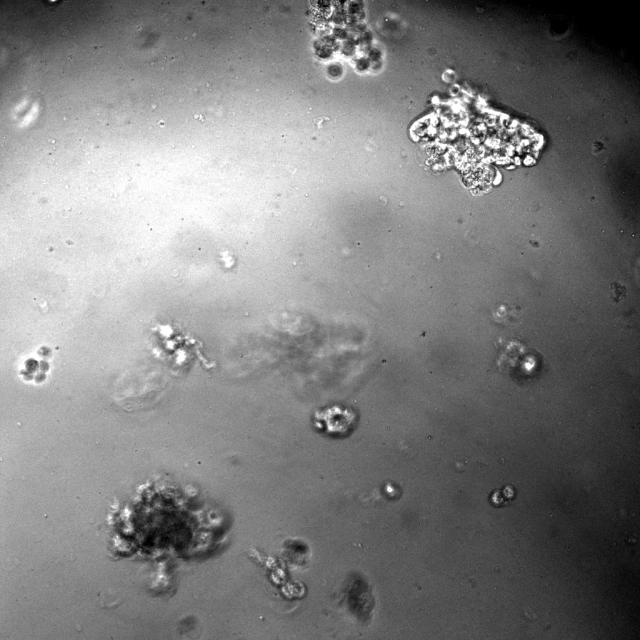organoid: (408, 69, 546, 196), (108, 477, 230, 593), (307, 0, 383, 79), (251, 537, 311, 599), (151, 324, 213, 372), (332, 571, 376, 623), (497, 338, 543, 381), (311, 403, 358, 438), (16, 344, 52, 387), (489, 485, 515, 507), (379, 479, 402, 500)
